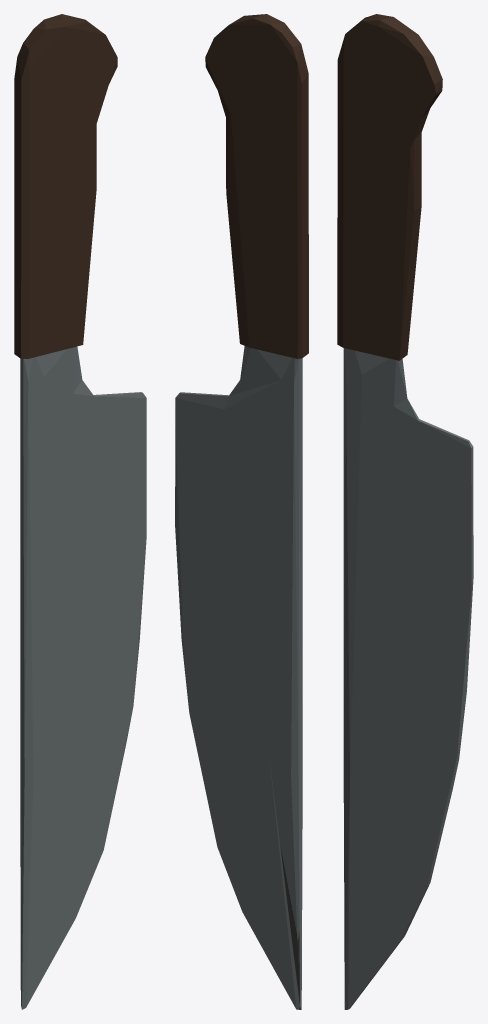
File: Knife03.fbx
3 views of the same model, side by side, from view 1: azimuth 30°, elevation 25°; view 2: azimuth 150°, elevation 25°; view 3: azimuth 330°, elevation 25° (orthographic).
Parts seen in each view (by area): view 1: Knife03LowPoly; view 2: Knife03LowPoly; view 3: Knife03LowPoly.
Part boxes in pixels (x1,y1,x2,y2): Knife03LowPoly: [14, 14, 146, 1009]; Knife03LowPoly: [175, 14, 308, 1009]; Knife03LowPoly: [337, 14, 473, 1009].
Size of the model in its own units: 4.53 by 32.96 by 0.5729.
